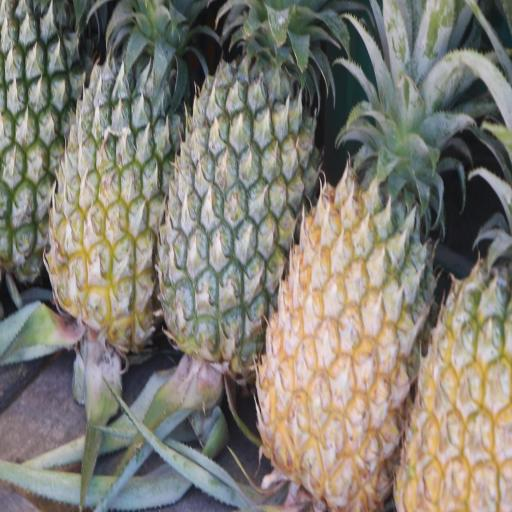------------------------------: (42, 0, 193, 359)
Pineapple - v8 v1: (253, 0, 442, 512), (393, 158, 512, 508)
